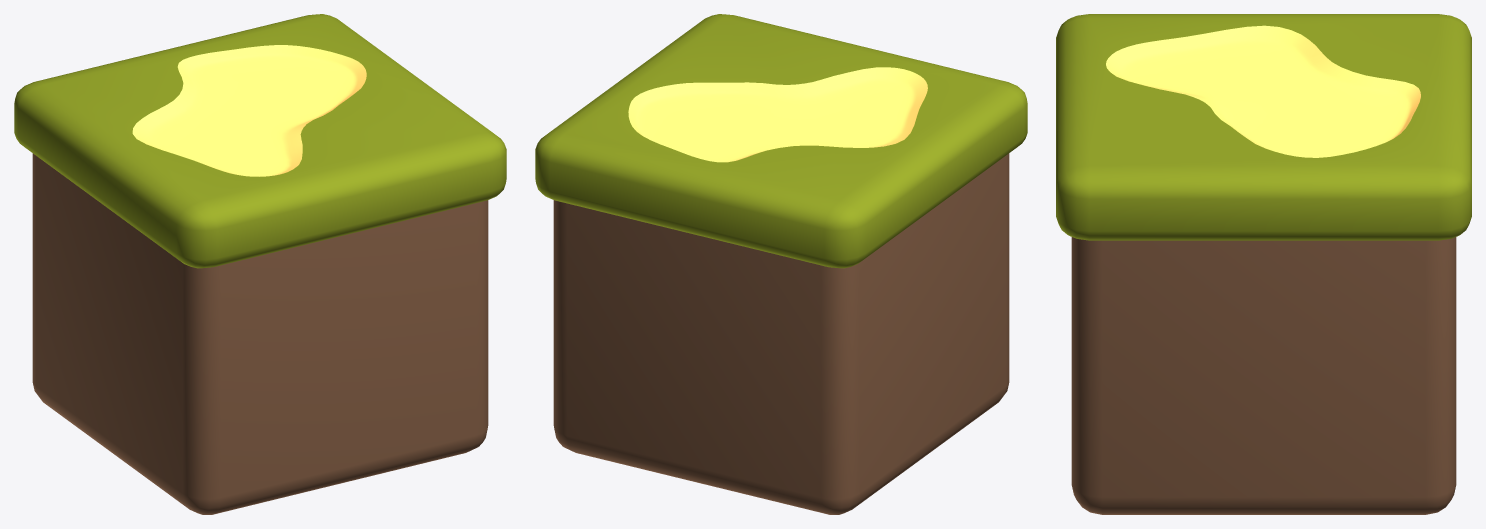
The picture shows the model from 3 angles, left to right: view 1: azimuth 30°, elevation 25°; view 2: azimuth 150°, elevation 25°; view 3: azimuth 270°, elevation 25°; orthographic projection. The views are drawn at different scales.
Parts seen in each view (by area): view 1: Cube.028, Cube.043; view 2: Cube.028, Cube.043; view 3: Cube.028, Cube.043.
Part boxes in pixels (left/top/right/bottom): Cube.028: left=32, top=153, right=488, bottom=514; Cube.043: left=14, top=14, right=506, bottom=268; Cube.028: left=553, top=153, right=1009, bottom=514; Cube.043: left=535, top=14, right=1027, bottom=268; Cube.028: left=1071, top=237, right=1456, bottom=514; Cube.043: left=1056, top=14, right=1471, bottom=240.
Bounding box in the file's own units: 216 × 202 × 216.
